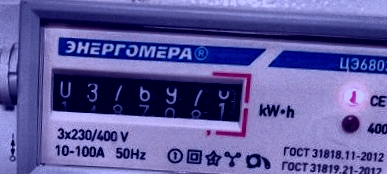0: (58, 76, 73, 99)
1: (215, 100, 228, 121)
3: (84, 80, 100, 103)
6: (137, 79, 153, 102)
7: (110, 78, 126, 102), (190, 84, 205, 108)
9: (162, 82, 178, 105)
screen: (40, 58, 254, 141)
